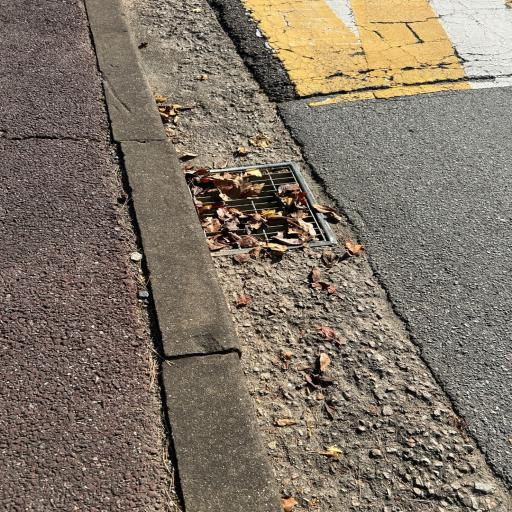debris: (196, 168, 265, 249), (248, 183, 315, 242), (231, 234, 277, 247), (203, 202, 213, 210), (276, 236, 283, 238), (282, 169, 286, 172)
drain: (193, 164, 329, 250)
